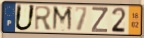2: (111, 7, 127, 34)
7: (74, 6, 89, 33)
M: (51, 5, 73, 33)
R: (34, 5, 54, 32)
U: (13, 4, 37, 32)
Z: (91, 6, 109, 34)
